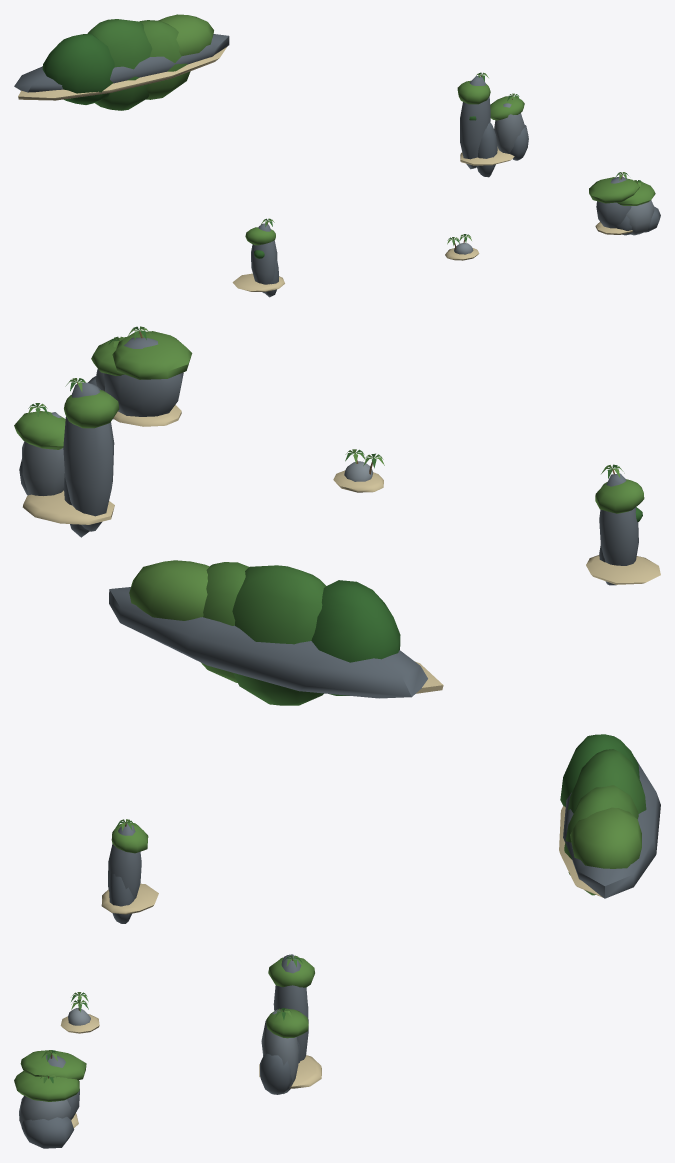
The model's file is sushi-bar-isles.glb.
The picture shows the model from 3 angles, top to bottom: view 1: azimuth 30°, elevation 25°; view 2: azimuth 150°, elevation 25°; view 3: azimuth 270°, elevation 25°; orthographic projection. The views are drawn at different scales.
Parts seen in each view (by area): view 1: sushi-bar-isles; view 2: sushi-bar-isles; view 3: sushi-bar-isles.
Part boxes in pixels (left/top/right/bottom): sushi-bar-isles: left=14, top=14, right=660, bottom=297; sushi-bar-isles: left=14, top=326, right=660, bottom=705; sushi-bar-isles: left=14, top=734, right=660, bottom=1148.
Bounding box in the file's own units: 69.6 × 20.94 × 66.99.
